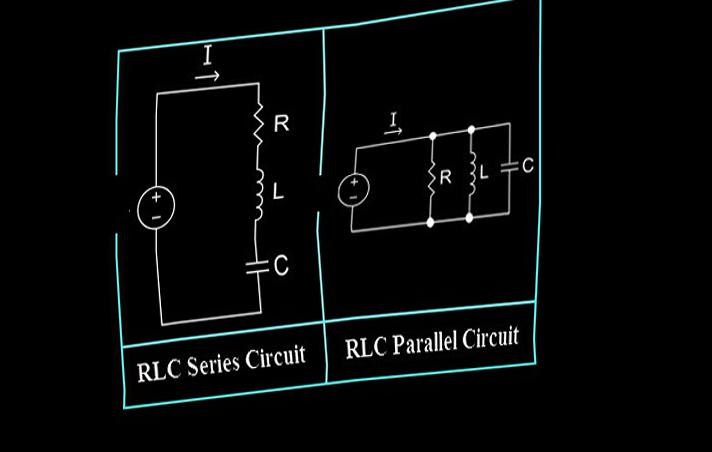Battery: (124, 173, 191, 240), (323, 158, 385, 220)
